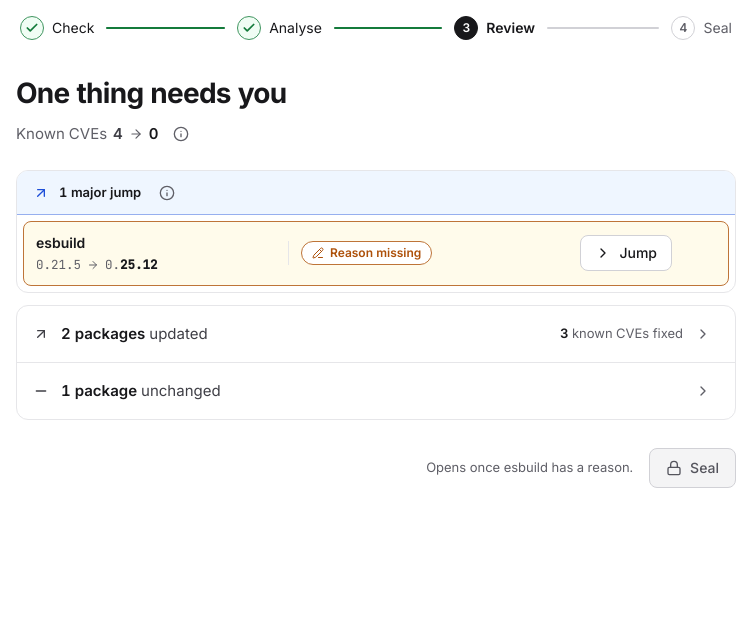
Test: ReviewScreen › puts the info buttons on the title and the kept row while a jump's reason waits
Expected: the heading reads "One thing needs you", [16,76,286,110]
Expected: the number of buttons named "What a CVE is" is 1, [164,118,196,150]
Step 1. Click the button "2 packages updated 3 known CVEs fixed" → {"x": 103, "y": 333}, box [17,306,727,362]
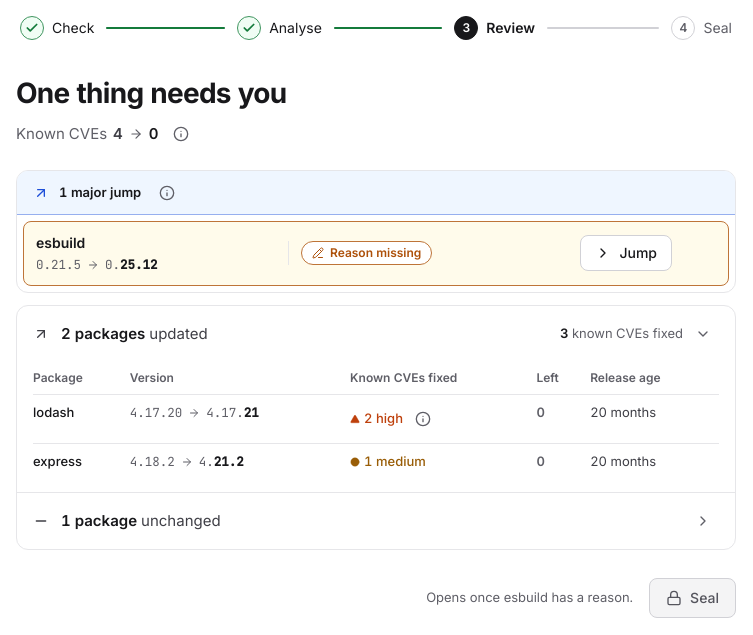
Expected: the number of buttons named "What a CVE is" is 1, [164,118,196,150]
Result: the number of buttons named "What a severity is" is 1 at [407,403,439,435]
